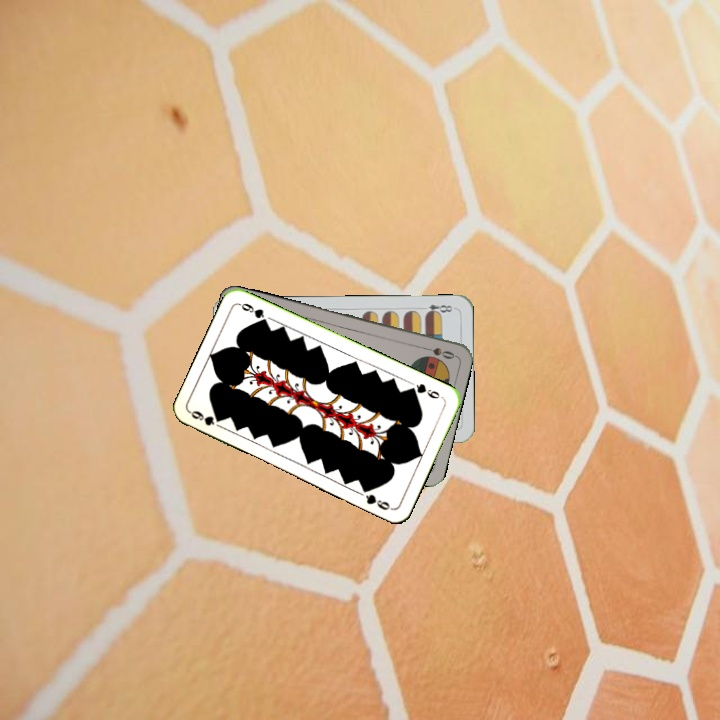E8: (416, 300, 457, 317)
G9: (186, 406, 223, 429), (405, 379, 442, 401)
SO: (417, 343, 457, 362)
